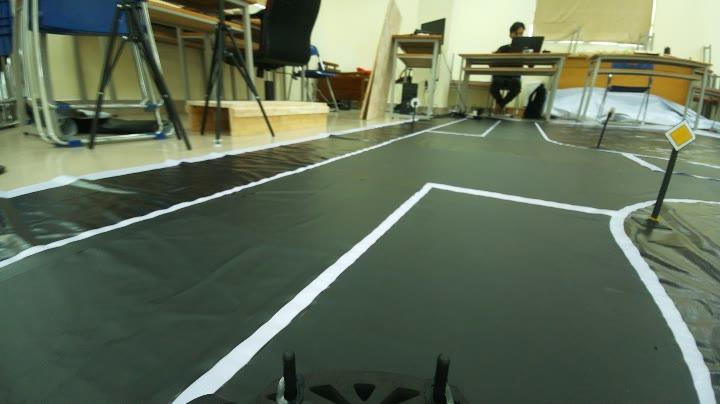priority: (662, 116, 698, 154)
